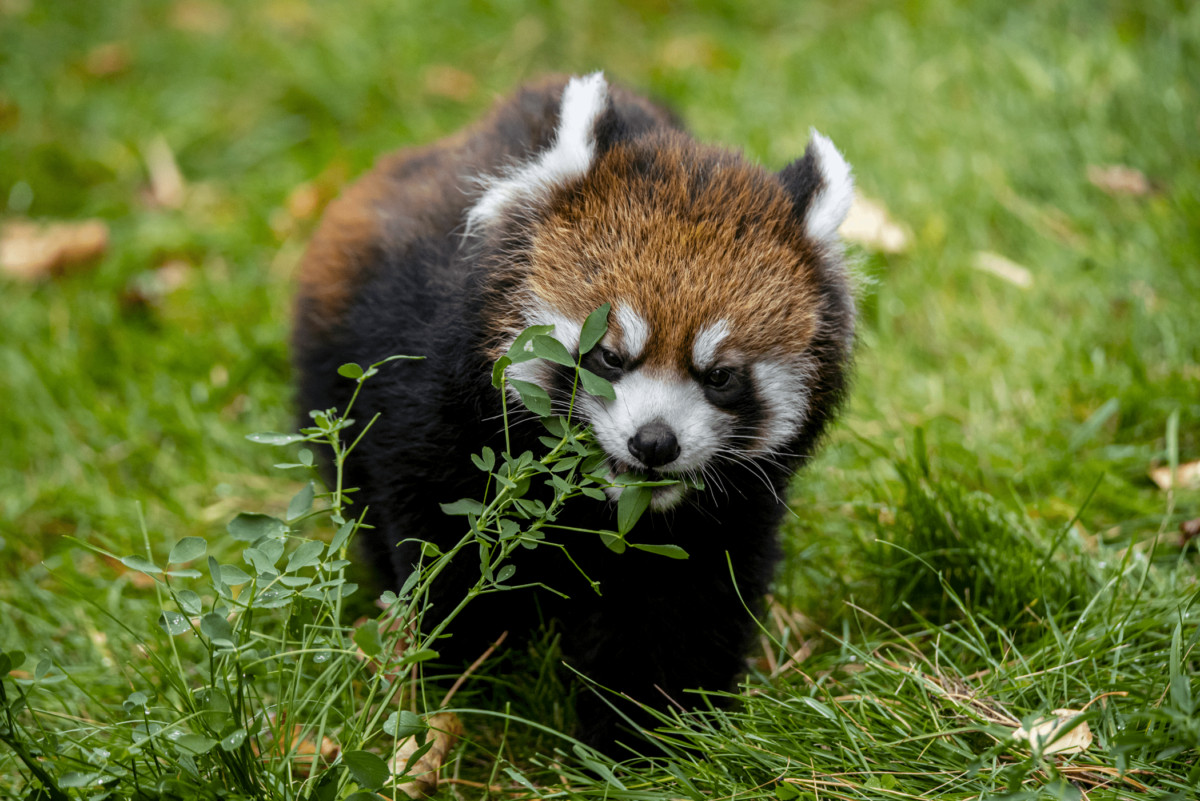Red panda: (486, 73, 867, 502)
